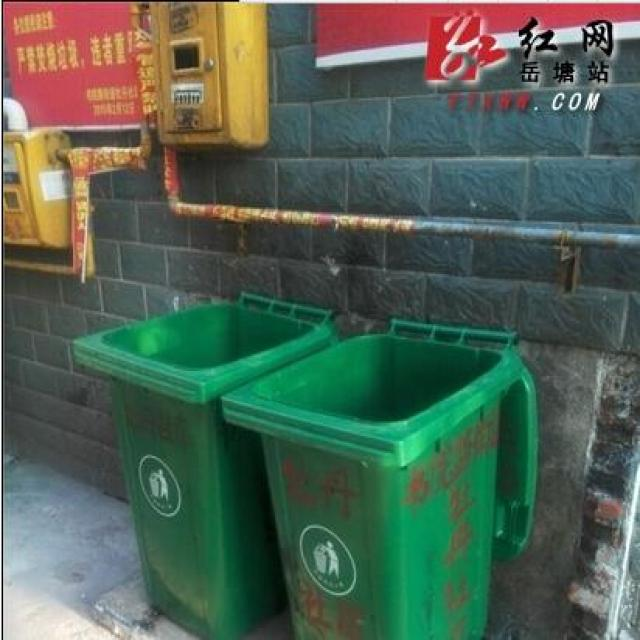garbage_bin: (220, 317, 538, 638), (70, 289, 337, 638)
